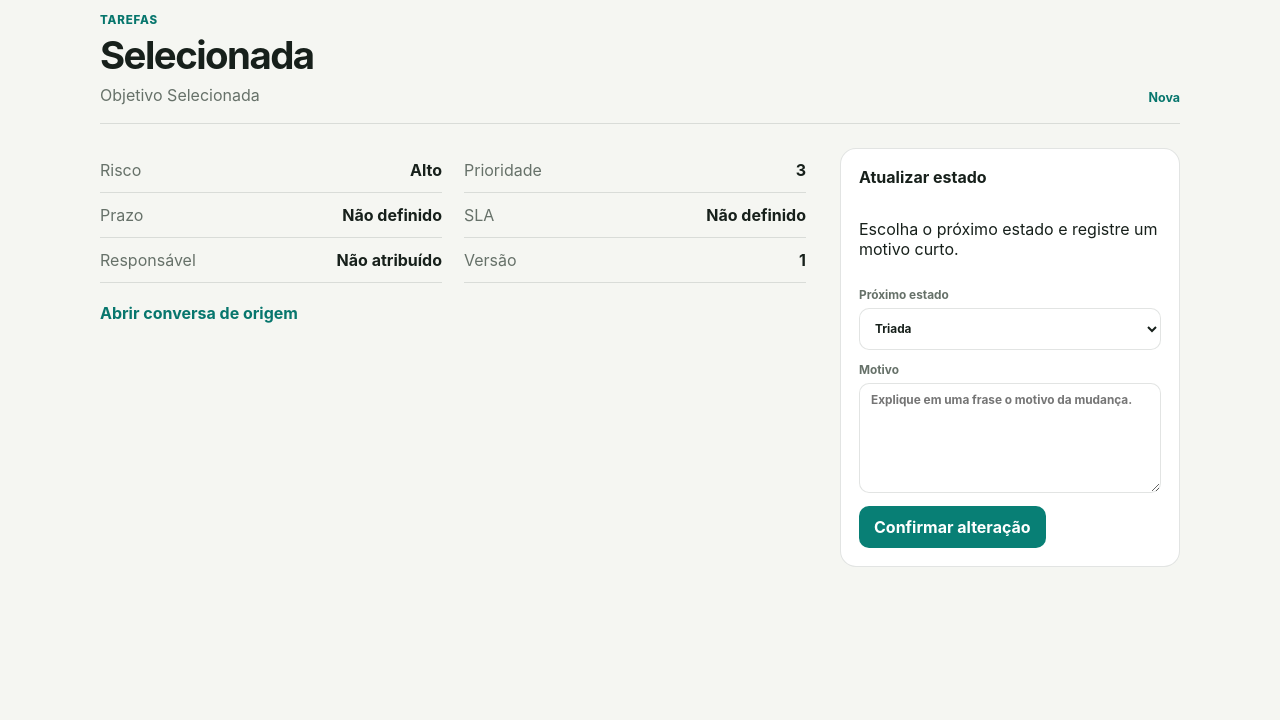
Test case: TasksWorkspace › preserves the reason on 409 and offers an authoritative reload
Expected: the heading "Selecionada" is shown, [100, 32, 314, 78]
Type "Contexto que não pode sumir" into the text box labelled "Motivo" at (1010, 438), box [859, 383, 1161, 493]
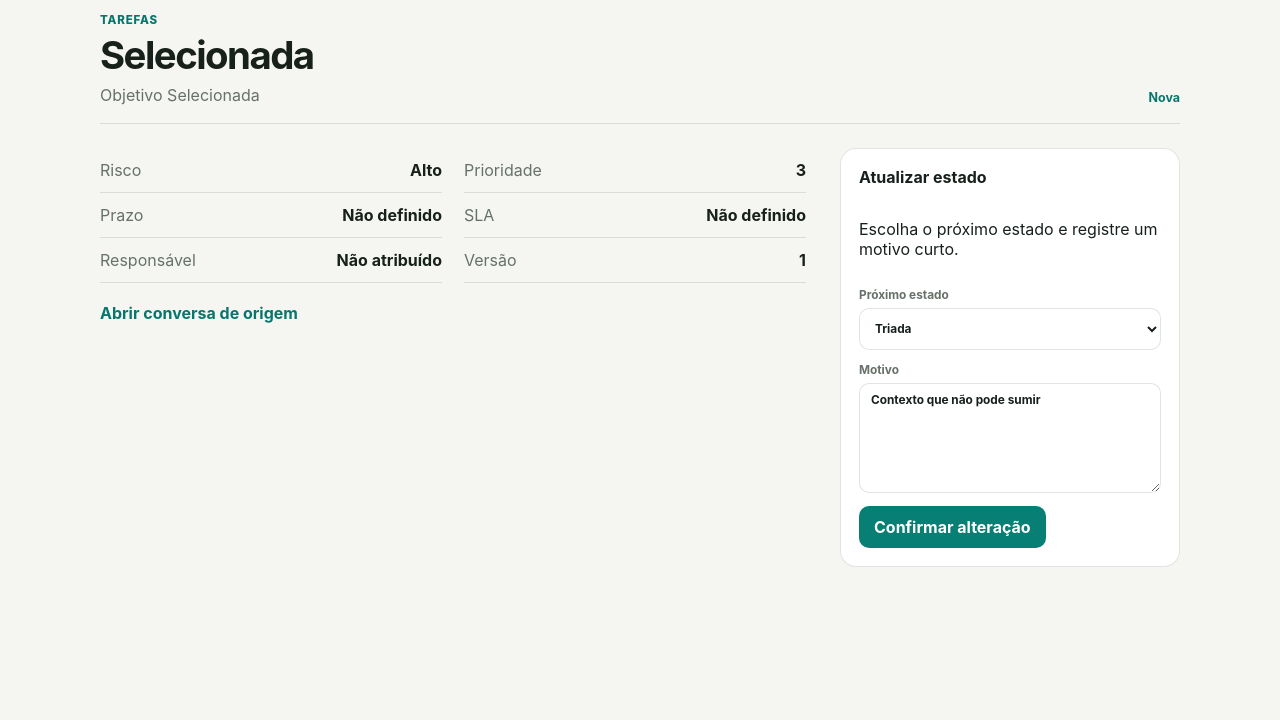
Click the button "Confirmar alteração" at (952, 527), box [859, 506, 1046, 548]
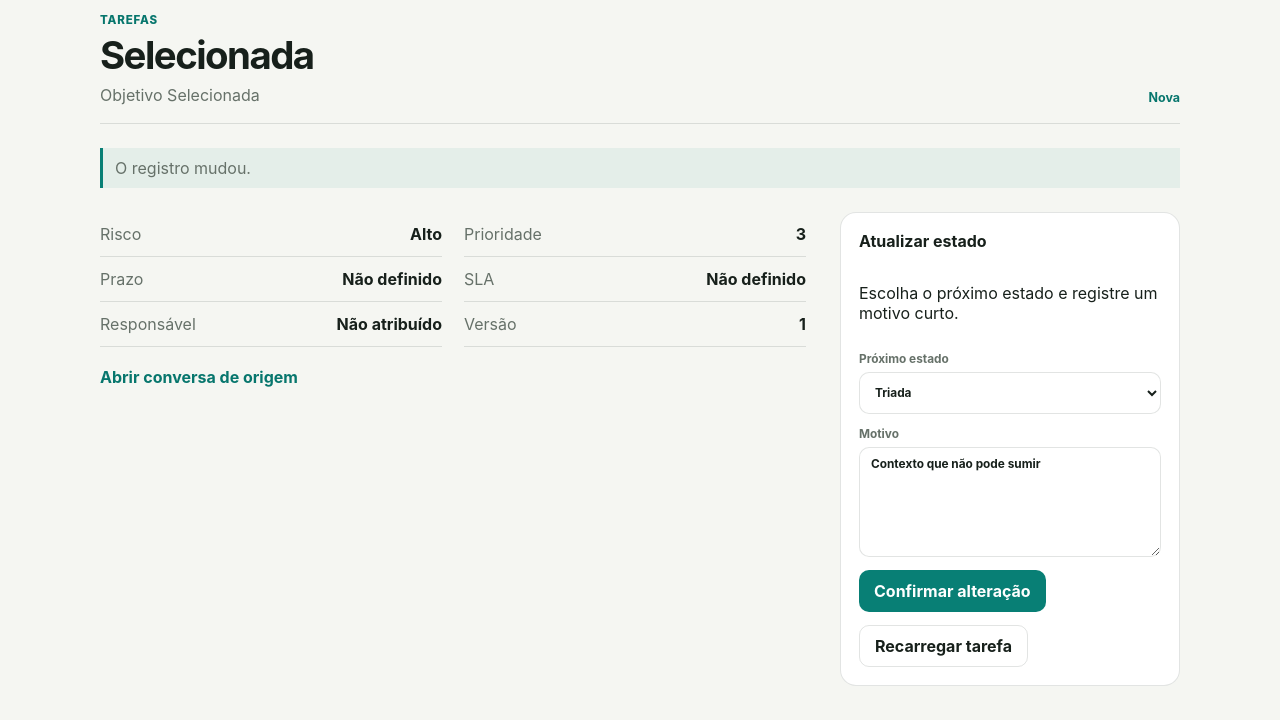
Expected: the button "Recarregar tarefa" is shown
Click the button "Recarregar tarefa" at (943, 646), box [859, 625, 1028, 667]
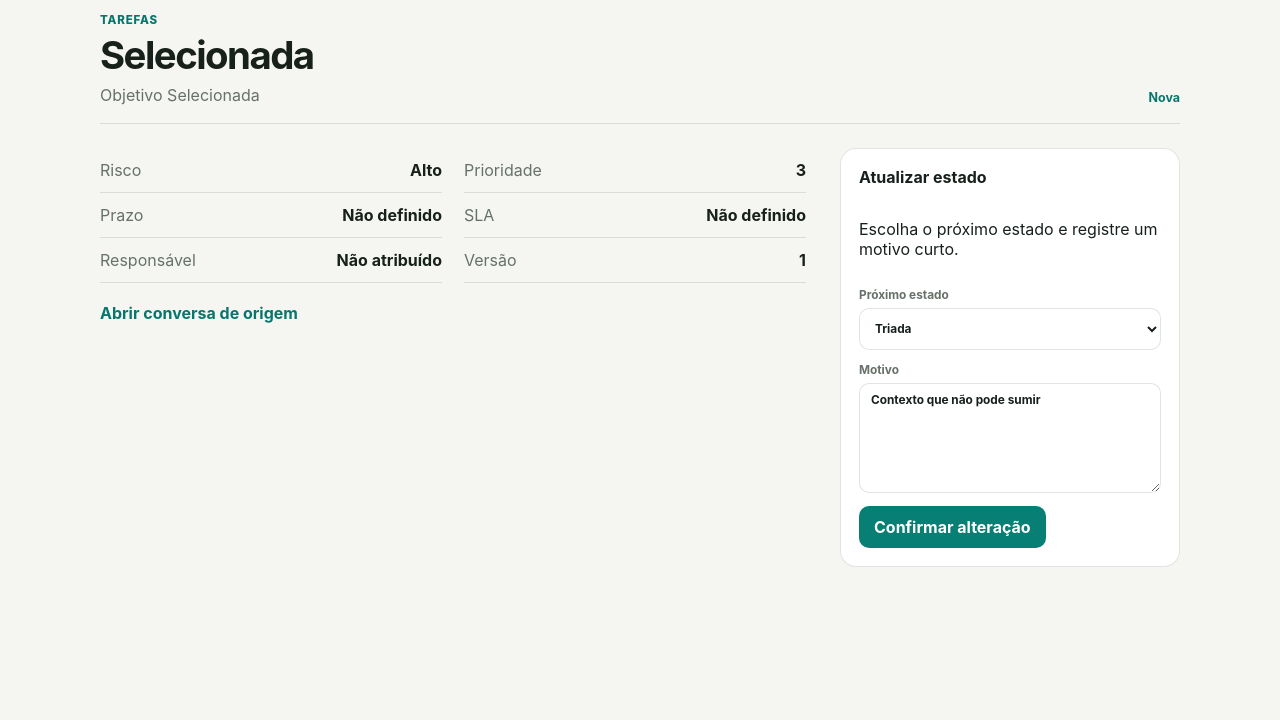
Expected: the text box labelled "Motivo" holds "Contexto que não pode sumir", [859, 383, 1161, 493]
Expected: the button "Recarregar tarefa" is gone
